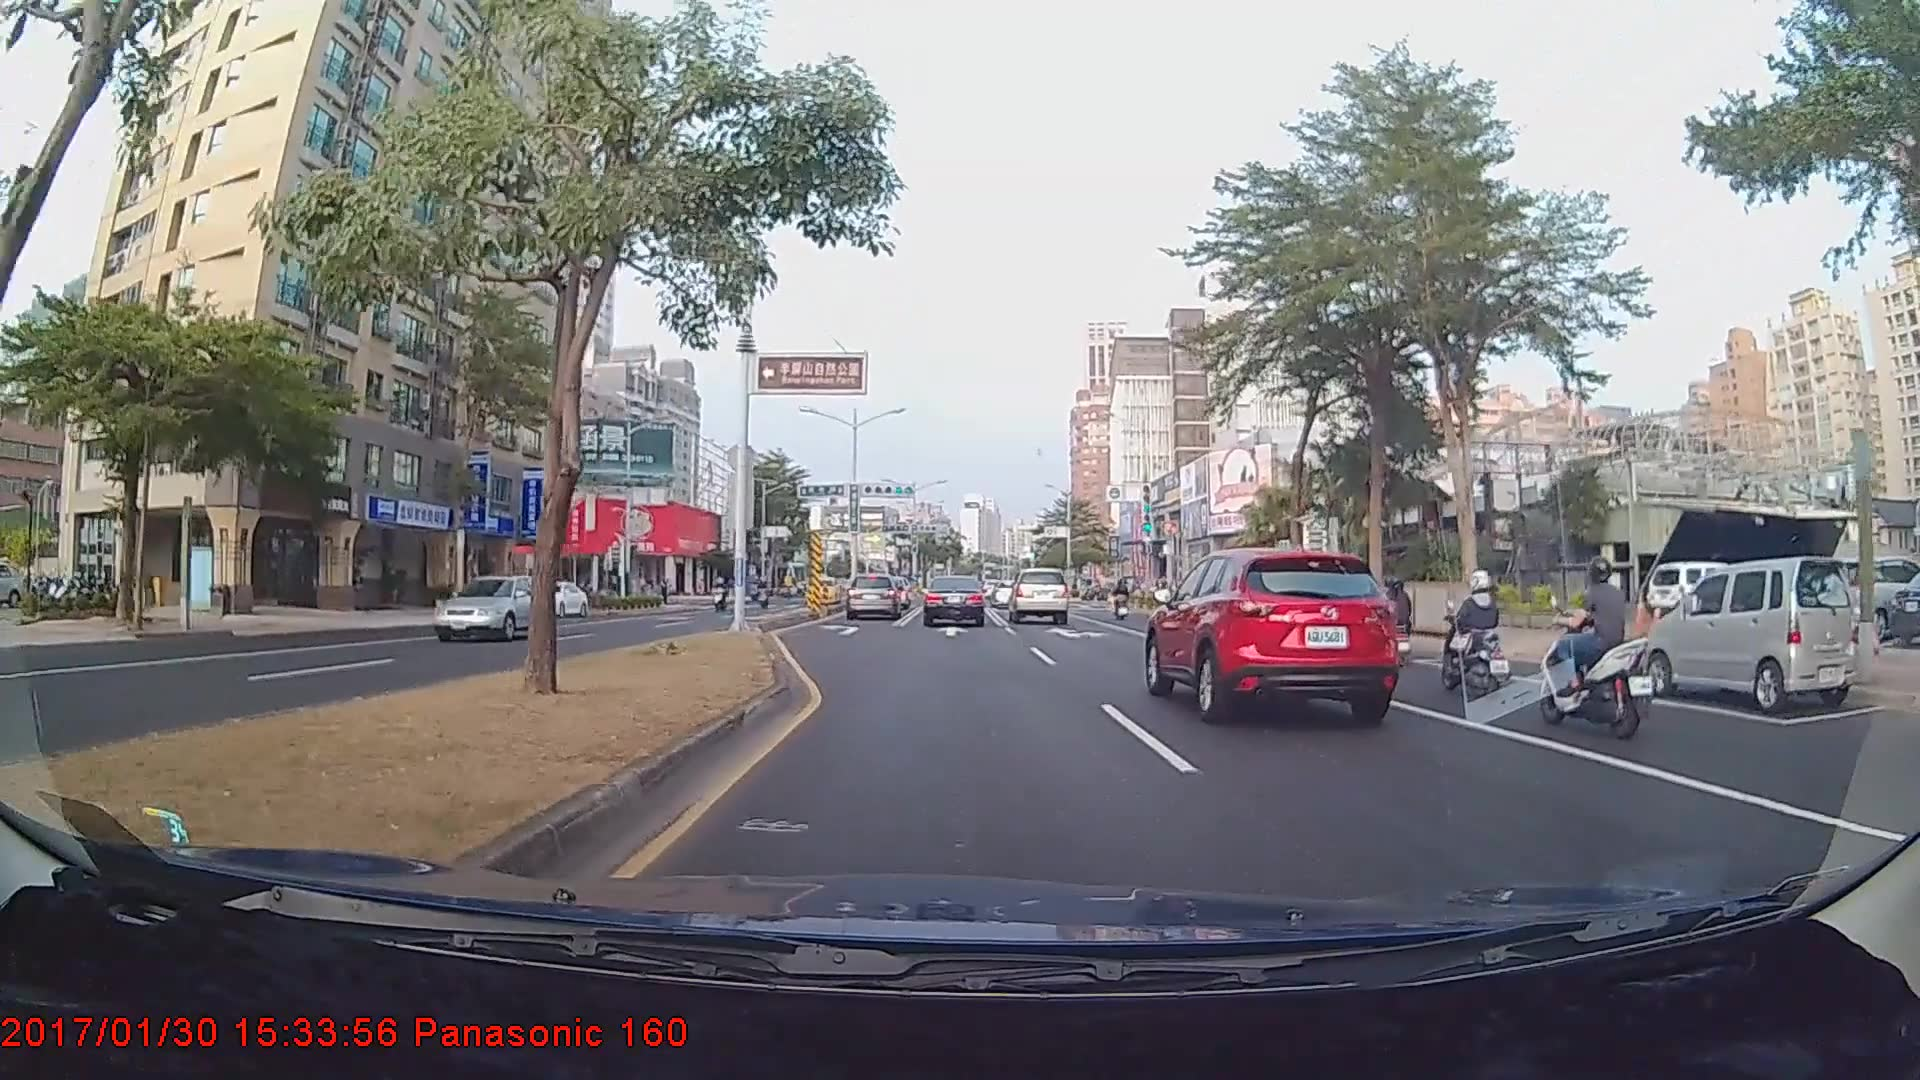rider: (1531, 553, 1657, 740), (1431, 572, 1528, 714), (1367, 576, 1416, 679), (1110, 584, 1136, 627)
vehicle: (1146, 540, 1401, 721), (1640, 554, 1858, 709), (433, 573, 549, 640), (1649, 558, 1748, 620), (1008, 565, 1070, 624), (843, 571, 907, 622), (923, 575, 985, 628), (516, 580, 589, 619)
